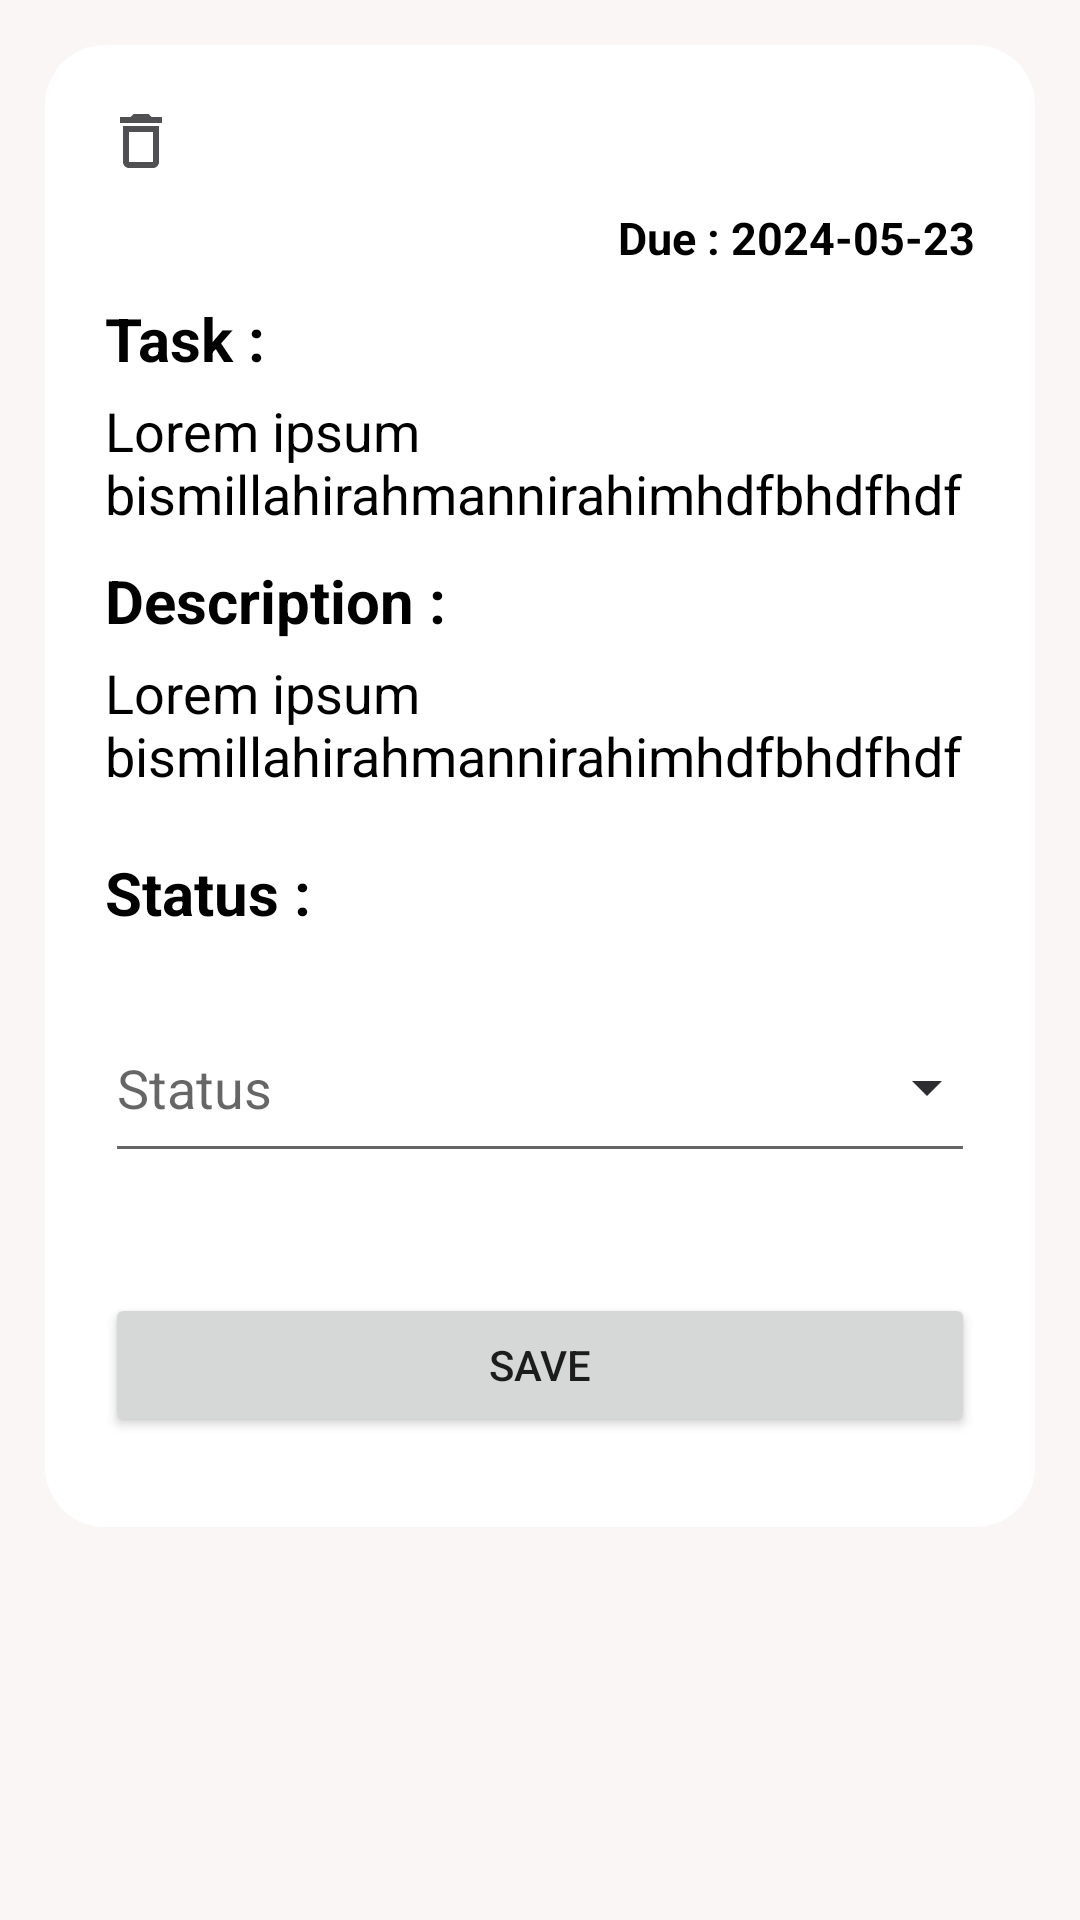

Icon bounding boxes for this 1080px x 1920px phone screenshot, format (x1, y1, x2, y2):
delete: (120, 114, 162, 168)
